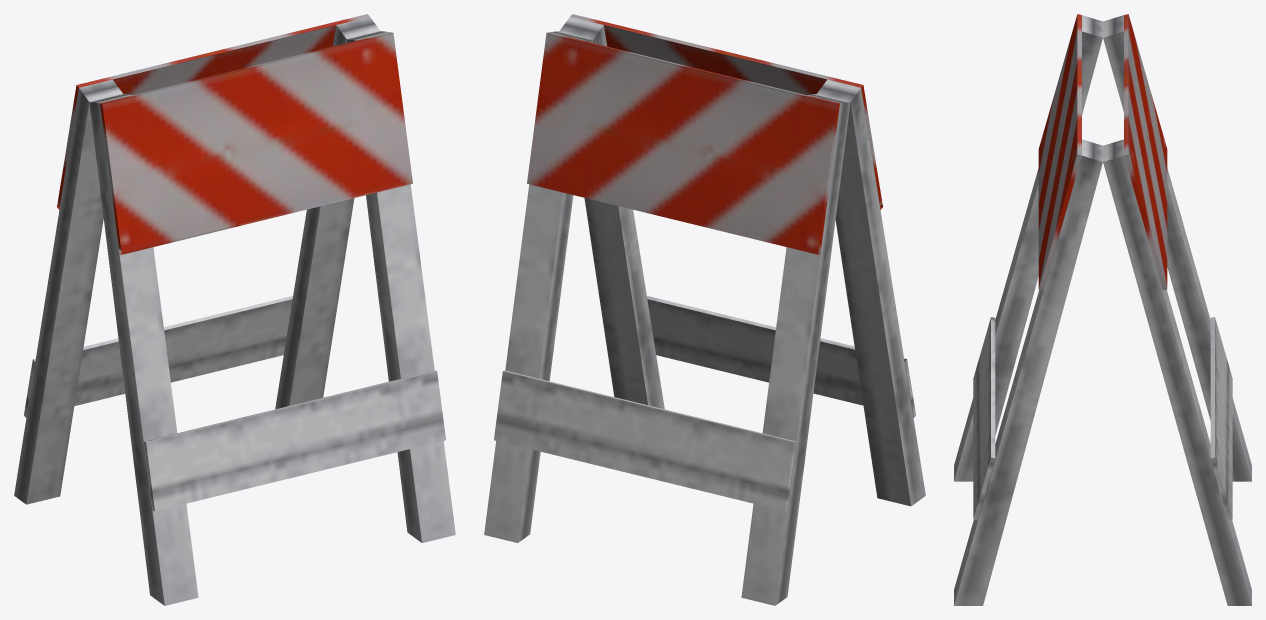
File: Urban_Type2BarrierTopBottomWood_Model.fbx
The picture shows the model from 3 angles, left to right: view 1: azimuth 30°, elevation 25°; view 2: azimuth 150°, elevation 25°; view 3: azimuth 270°, elevation 25°; orthographic projection.
Parts seen in each view (by area): view 1: Urban_Type2BarrierTopBottomWood_Mesh; view 2: Urban_Type2BarrierTopBottomWood_Mesh; view 3: Urban_Type2BarrierTopBottomWood_Mesh.
Boxes of the visible parts, bbox=[...] form: Urban_Type2BarrierTopBottomWood_Mesh: bbox=[14, 14, 455, 605]; Urban_Type2BarrierTopBottomWood_Mesh: bbox=[484, 14, 925, 605]; Urban_Type2BarrierTopBottomWood_Mesh: bbox=[954, 14, 1251, 605].
Bounding box in the file's own units: 0.7959 × 1.19 × 0.7131.
